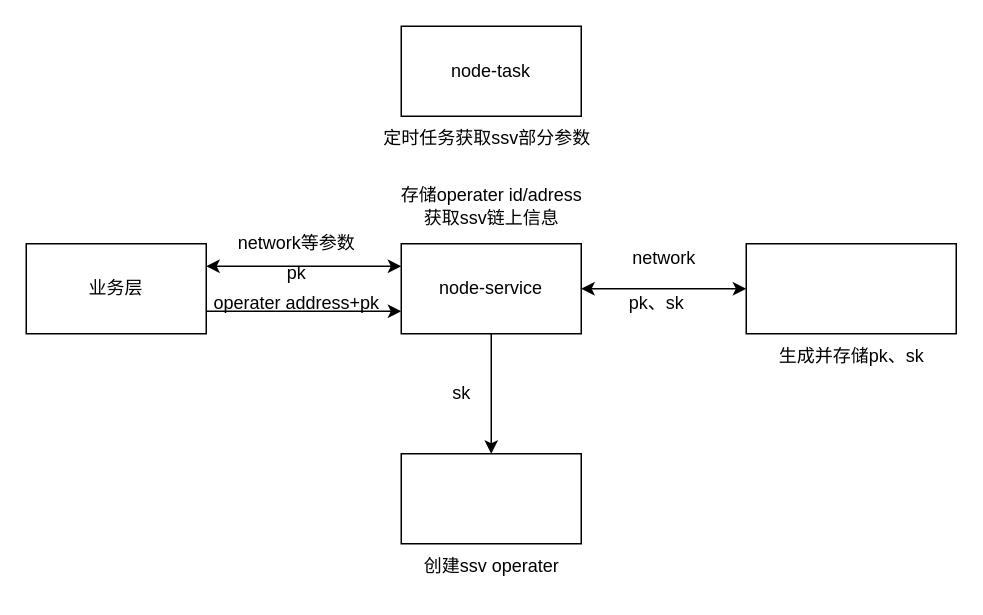
This 983x615 diagram has some shape labels left out. Here are the shapes that lost their labels. From the top down, the centre of each, then its label:
the point at 850,288: web3-signer-manager
the point at 490,498: web3-helm
